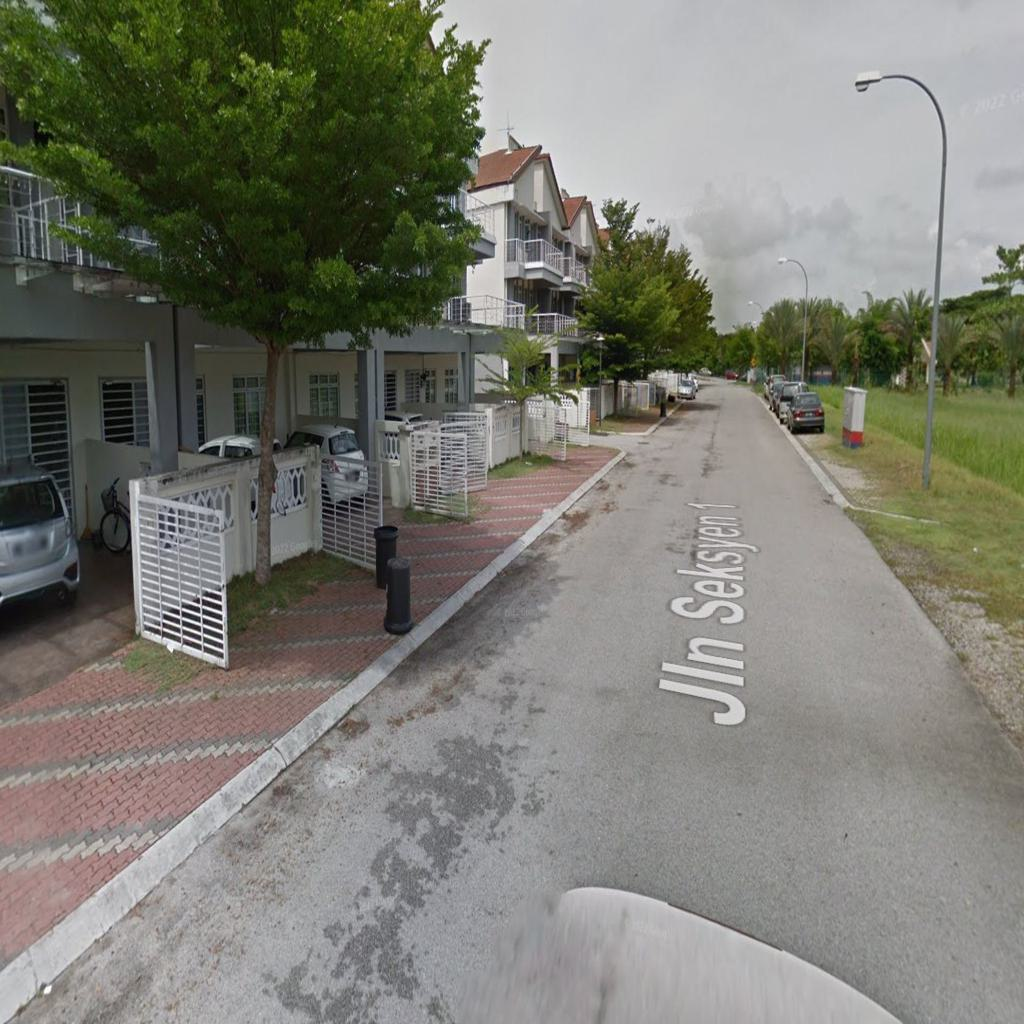Junction: (549, 412, 678, 480)
